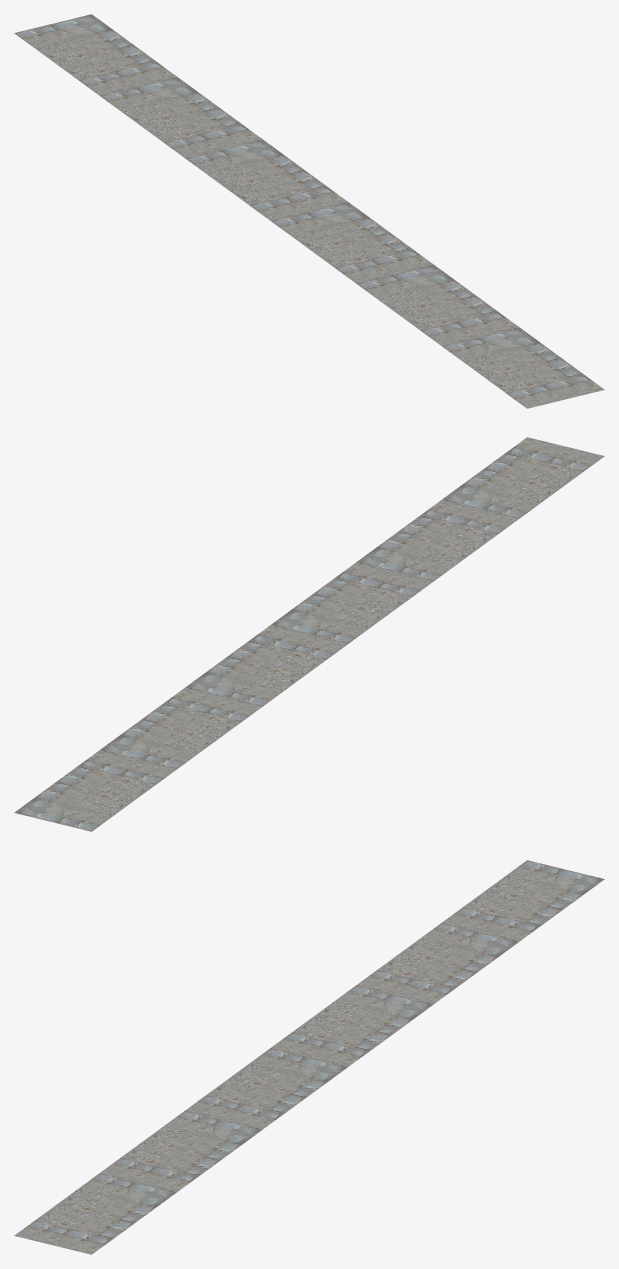
Rendered from Ground04.fbx.
The picture shows the model from 3 angles, top to bottom: view 1: azimuth 30°, elevation 25°; view 2: azimuth 150°, elevation 25°; view 3: azimuth 330°, elevation 25°; orthographic projection.
Parts seen in each view (by area): view 1: Plane.245; view 2: Plane.245; view 3: Plane.245.
Part boxes in pixels (x1,y1,x2,y2): Plane.245: (14,14,604,408); Plane.245: (14,437,604,831); Plane.245: (14,860,604,1254).
Size of the model in its own units: 2.1 by 3.91e-06 by 24.
